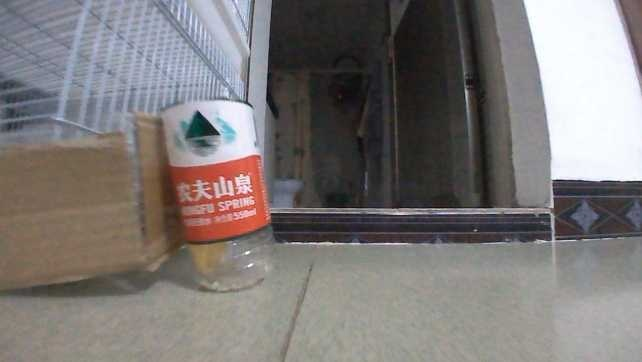door_sill: (268, 203, 554, 247)
toilet: (273, 175, 302, 209)
